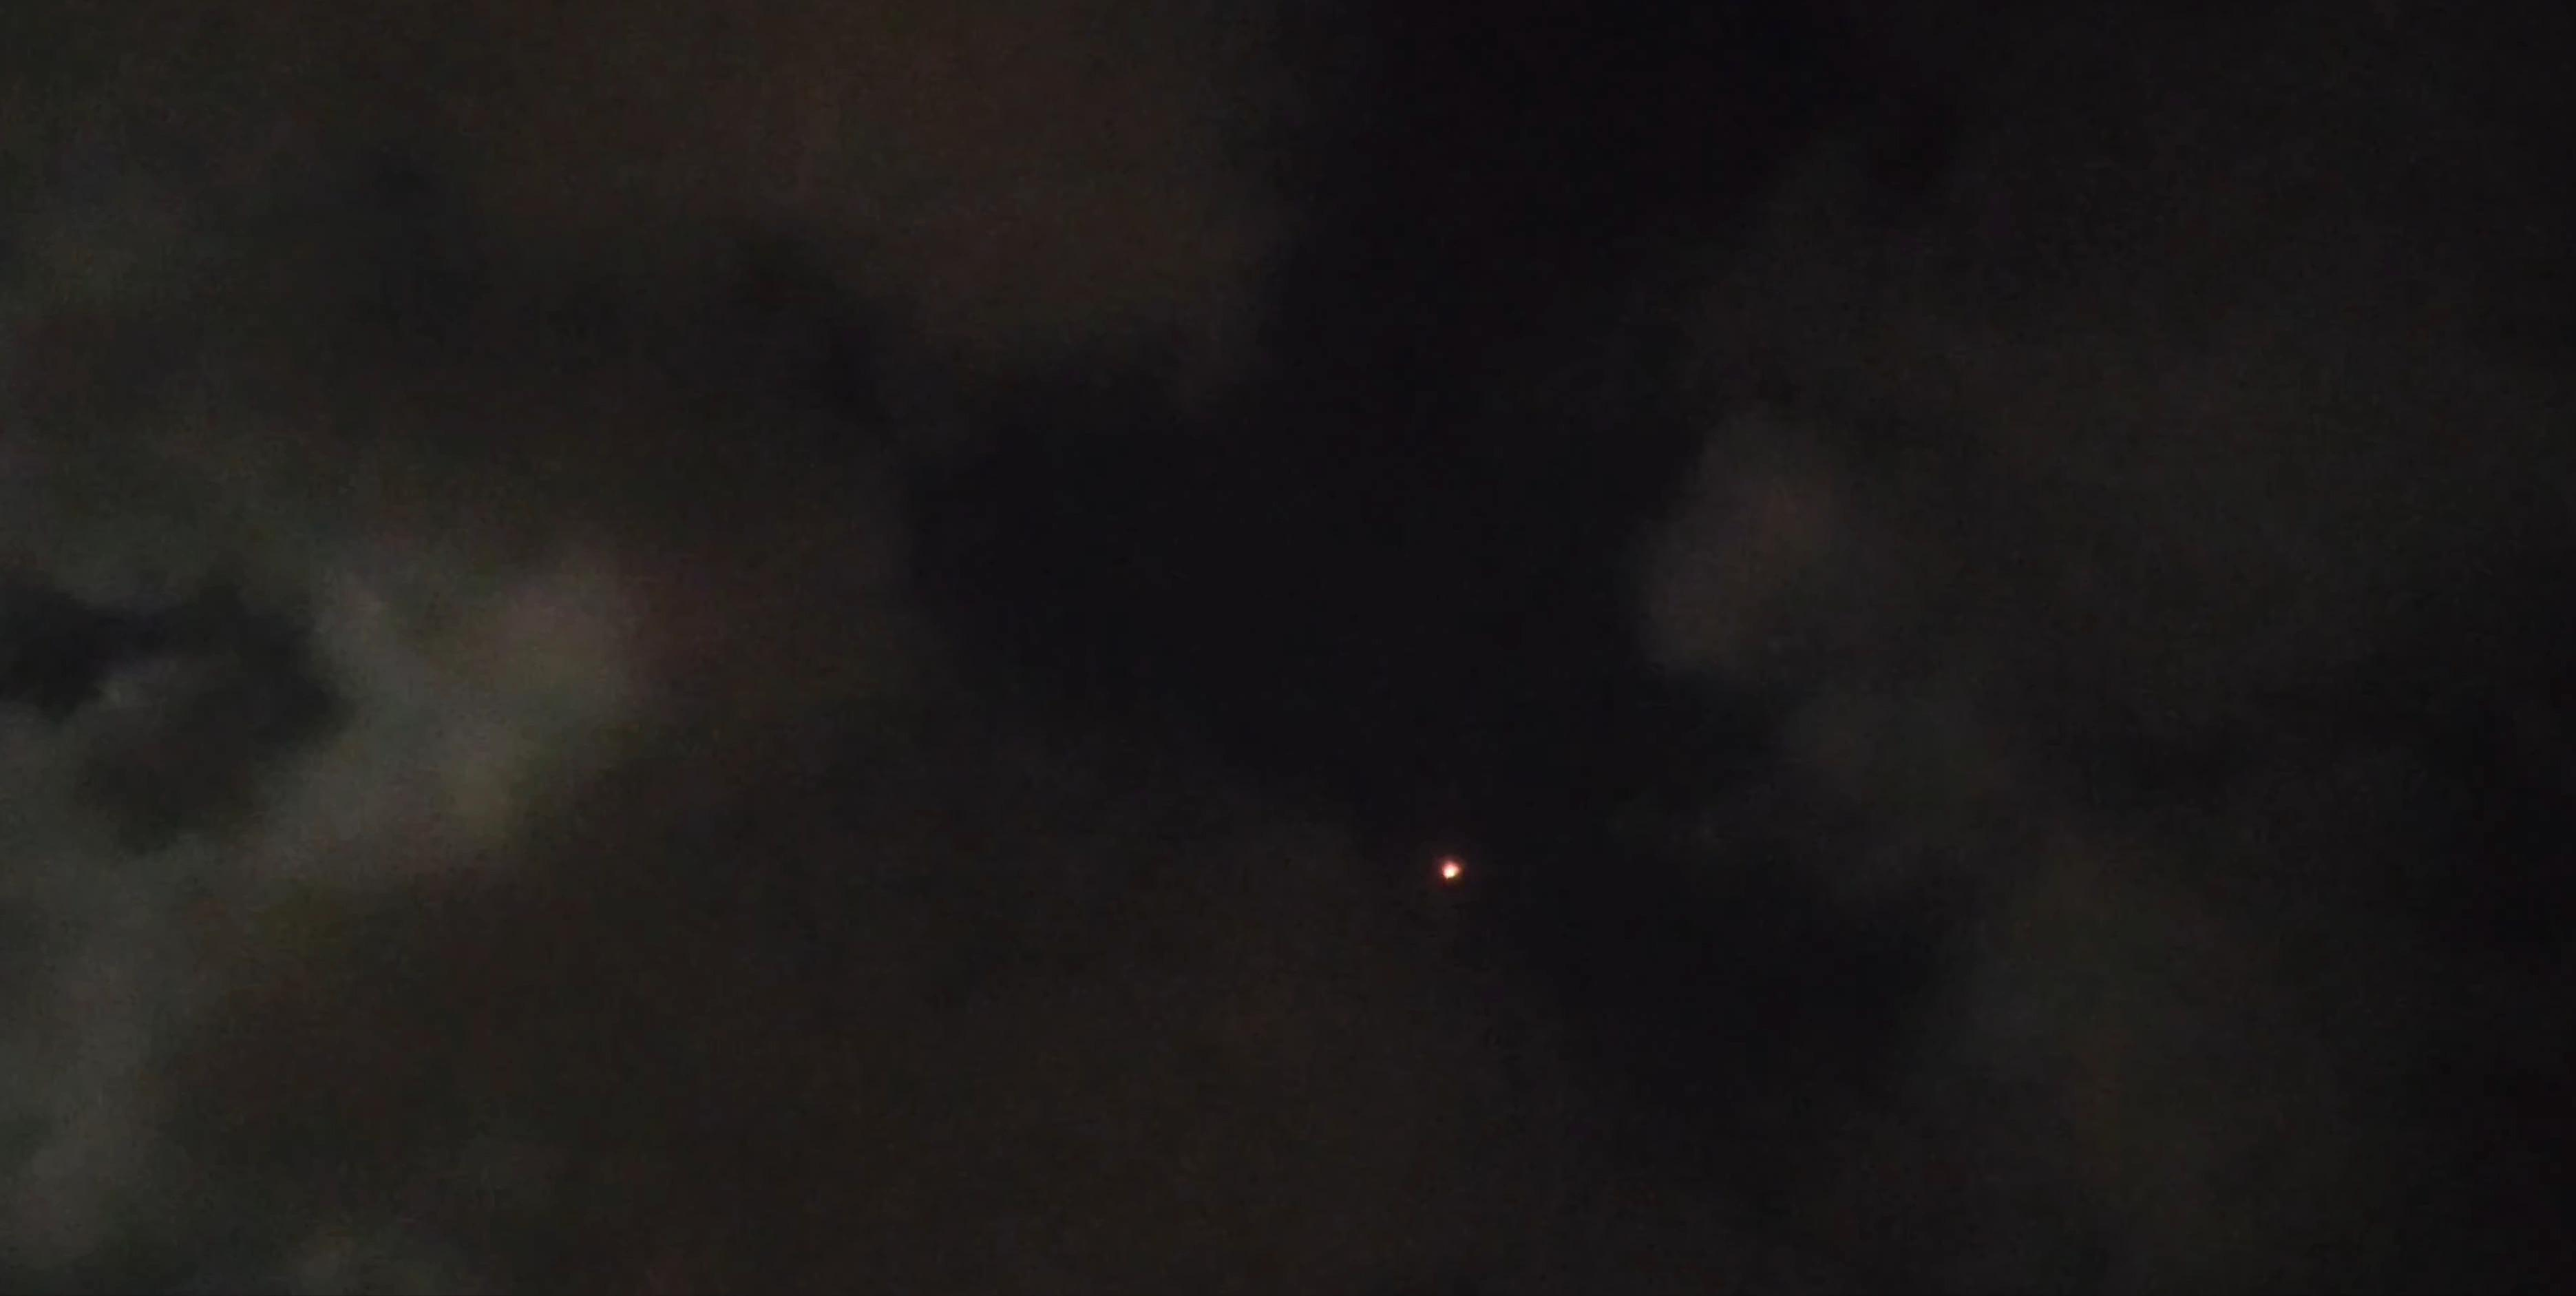Plane: (1426, 845, 1477, 899)
